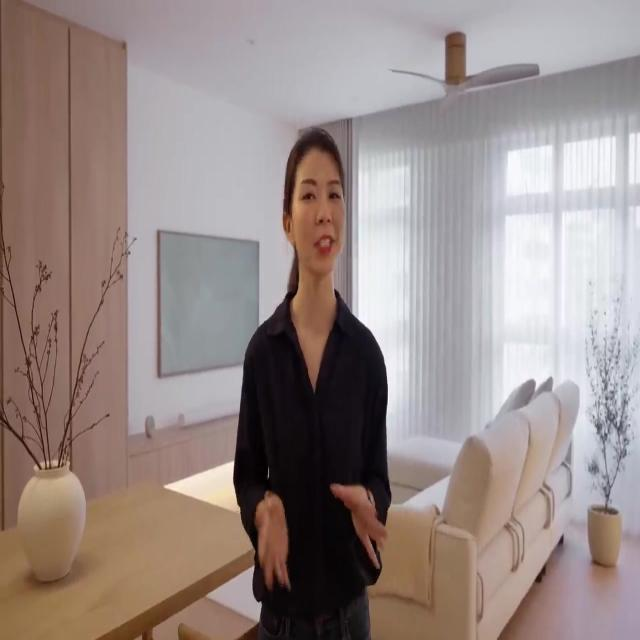obstacle: (366, 376, 580, 638), (0, 479, 256, 638)
person: (232, 125, 392, 639)
